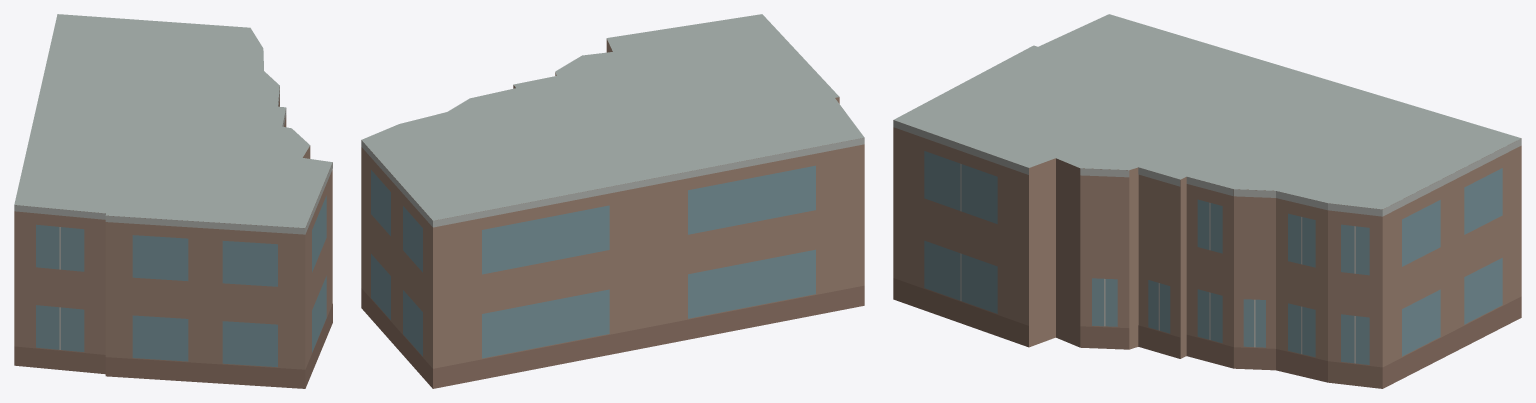
The model's file is survey-upis-32798588.glb.
3 renders of one model, left to right at view 1: azimuth 30°, elevation 25°; view 2: azimuth 150°, elevation 25°; view 3: azimuth 270°, elevation 25°, orthographic. The views are drawn at different scales.
Parts seen in each view (by area): view 1: survey-upis-32798588.tmp; view 2: survey-upis-32798588.tmp; view 3: survey-upis-32798588.tmp.
Part boxes in pixels (<box>): survey-upis-32798588.tmp: <box>14,14,332,388</box>; survey-upis-32798588.tmp: <box>361,14,864,388</box>; survey-upis-32798588.tmp: <box>893,14,1521,388</box>.
Bounding box in the file's own units: 14.26 × 6.1 × 19.37.
